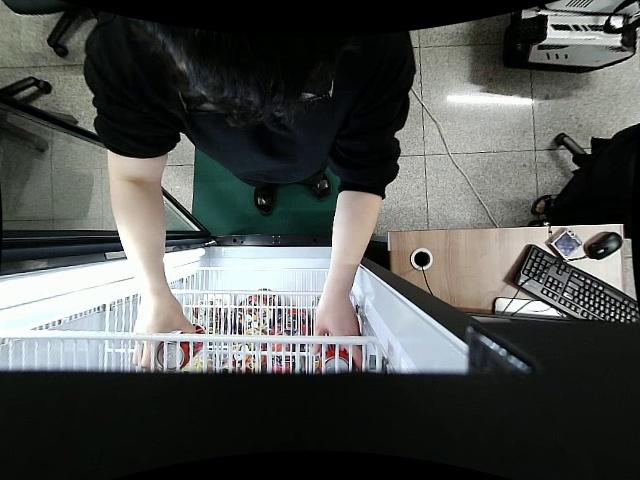00_hand: (311, 291, 368, 371), (134, 296, 196, 369)
11_cocaColaZero: (157, 325, 205, 369), (316, 342, 356, 376)
